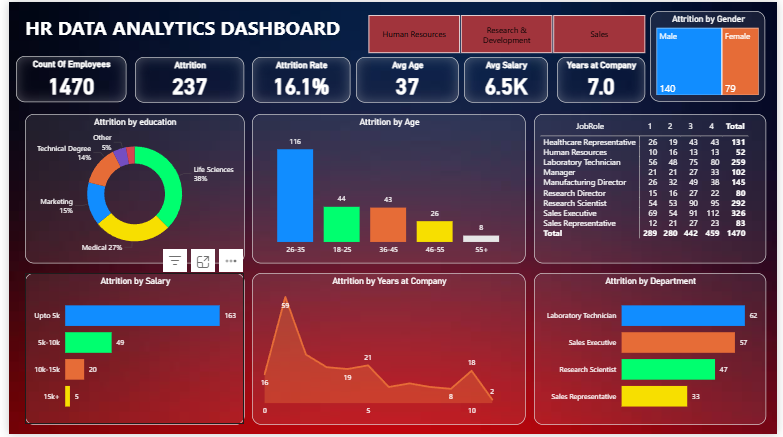

This screenshot's page, from the dashboard's own definition file:
{"tool":"powerbi","page":{"name":"Page 1","canvas":[1280,720],"ordinal":0},"visuals":[{"type":"card","title":"Count Of Employees","fields":{"Values":["CountNonNull(HR_Analytics.EmpID)"]},"box":[11.6,89.5,183.7,76.7],"z":0},{"type":"card","title":"Attrition","fields":{"Values":["Sum(HR_Analytics.AttritionCount)"]},"box":[209.4,91.7,182.1,75.6],"z":1000},{"type":"card","title":"Attrition Rate","fields":{"Values":["HR_Analytics.AttritionRate"]},"box":[405.2,91.7,163.6,75.6],"z":2000},{"type":"card","title":"Avg Age","fields":{"Values":["Avg(HR_Analytics.Age)"]},"box":[578.7,91.7,171,75.6],"z":3000},{"type":"card","title":"Avg Salary","fields":{"Values":["Avg(HR_Analytics.MonthlyIncome)"]},"box":[758.3,91.7,140,75.6],"z":4000},{"type":"card","title":"Years at Company","fields":{"Values":["Avg(HR_Analytics.YearsAtCompany)"]},"box":[912.8,91.9,146.5,75.6],"z":5000},{"type":"donutChart","title":"Attrition by education","fields":{"Category":["HR_Analytics.EducationField"],"Y":["Sum(HR_Analytics.AttritionCount)"]},"box":[26,185.9,365.5,249.1],"z":6000},{"type":"columnChart","title":"Attrition by Age","fields":{"Category":["HR_Analytics.AgeGroup"],"Y":["Sum(HR_Analytics.AttritionCount)"]},"box":[405.2,185.9,456,249.1],"z":7000},{"type":"pivotTable","fields":{"Rows":["HR_Analytics.JobRole"],"Columns":["HR_Analytics.JobSatisfaction"],"Values":["CountNonNull(HR_Analytics.AttritionCount)"]},"box":[874.8,185.9,386.6,249.1],"z":8000},{"type":"barChart","title":"Attrition by Salary","fields":{"Category":["HR_Analytics.SalarySlab"],"Y":["Sum(HR_Analytics.AttritionCount)"]},"box":[26,451,365.5,252.8],"z":9000},{"type":"clusteredBarChart","title":"Attrition by Department","fields":{"Category":["HR_Analytics.JobRole"],"Y":["Sum(HR_Analytics.AttritionCount)"]},"box":[874.8,451,386.6,252.8],"z":10000},{"type":"areaChart","title":"Attrition by Years at Company","fields":{"Category":["HR_Analytics.YearsAtCompany"],"Y":["Sum(HR_Analytics.AttritionCount)"]},"box":[405.2,451,456,252.8],"z":11000},{"type":"treemap","title":"Attrition by Gender","fields":{"Values":["Sum(HR_Analytics.AttritionCount)"],"Group":["HR_Analytics.Gender"]},"box":[1068.2,14.7,192.5,151.3],"z":12000},{"type":"slicer","fields":{"Values":["HR_Analytics.Department"]},"box":[579.1,14.7,500.6,77.3],"z":13000},{"type":"textbox","box":[0,14.9,578.7,65.7],"z":14000}]}

Visuals, with their boxes in screenshot pixels (x1, y1, x2, y2), scaled from the page's 1280x720 canvas onto the 783x437 screenshot:
"Count Of Employees" card: l=7, t=54, r=119, b=101
"Attrition" card: l=128, t=56, r=239, b=102
"Attrition Rate" card: l=248, t=56, r=348, b=102
"Avg Age" card: l=354, t=56, r=459, b=102
"Avg Salary" card: l=464, t=56, r=550, b=102
"Years at Company" card: l=558, t=56, r=648, b=102
"Attrition by education" donutChart: l=16, t=113, r=239, b=264
"Attrition by Age" columnChart: l=248, t=113, r=527, b=264
pivotTable - HR_Analytics.JobRole x HR_Analytics.JobSatisfaction: l=535, t=113, r=772, b=264
"Attrition by Salary" barChart: l=16, t=274, r=239, b=427
"Attrition by Department" clusteredBarChart: l=535, t=274, r=772, b=427
"Attrition by Years at Company" areaChart: l=248, t=274, r=527, b=427
"Attrition by Gender" treemap: l=653, t=9, r=771, b=101
slicer - HR_Analytics.Department: l=354, t=9, r=660, b=56
textbox: l=0, t=9, r=354, b=49
